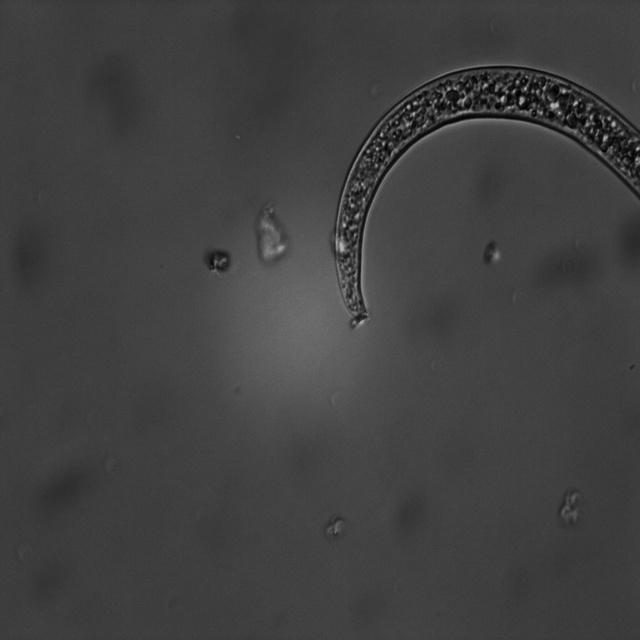Helicotylenchus: (320, 59, 640, 329)
